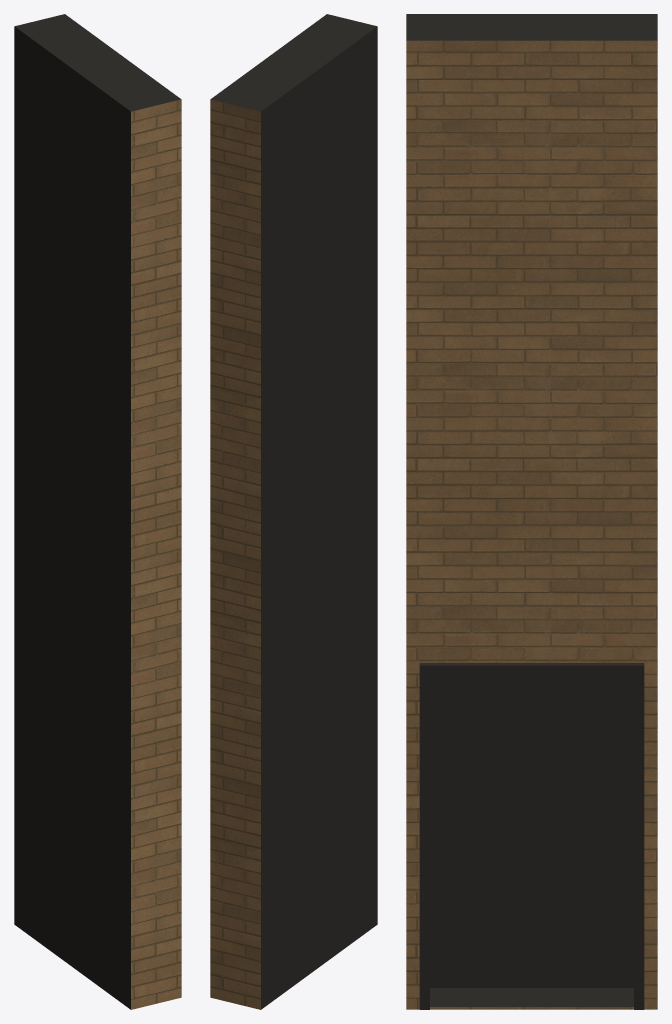
The model's file is GYM_Brick_Doorway_1.fbx.
3 views of the same model, side by side, from view 1: azimuth 30°, elevation 25°; view 2: azimuth 150°, elevation 25°; view 3: azimuth 270°, elevation 25° (orthographic). The views are drawn at different scales.
Parts seen in each view (by area): view 1: VPS_Doorway_Brick; view 2: VPS_Doorway_Brick; view 3: VPS_Doorway_Brick.
Part boxes in pixels (x1,y1,x2,y2): VPS_Doorway_Brick: (14,14,181,1009); VPS_Doorway_Brick: (210,14,377,1009); VPS_Doorway_Brick: (406,14,657,1009).
Bounding box in the file's own units: 0.5512 × 8.5 × 2.
Materials: 3 (1 with a texture image).
